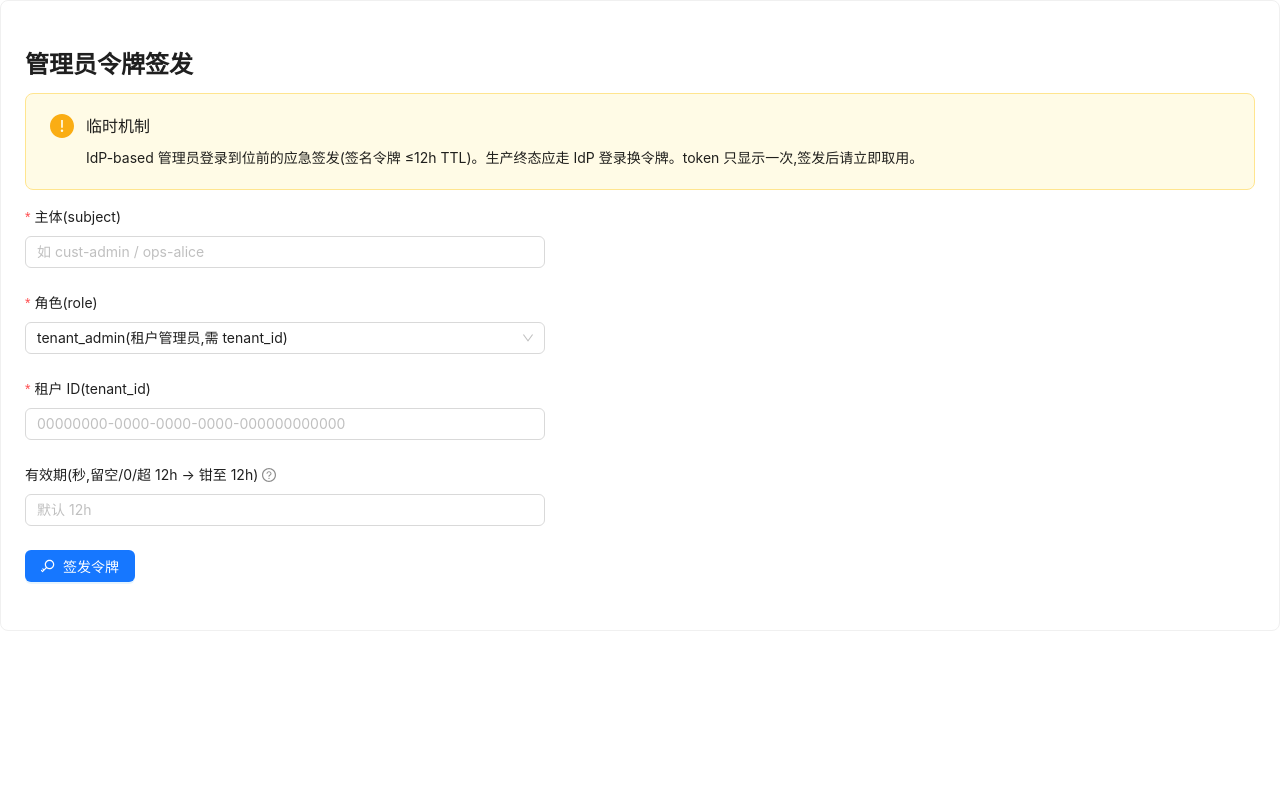
Test: AdminTokens 页 › 403 subject 不在表:错误提示
In the field with placeholder "如 cust-admin / ops-alice": (285, 252) x1=25 y1=236 x2=545 y2=268, type "x"
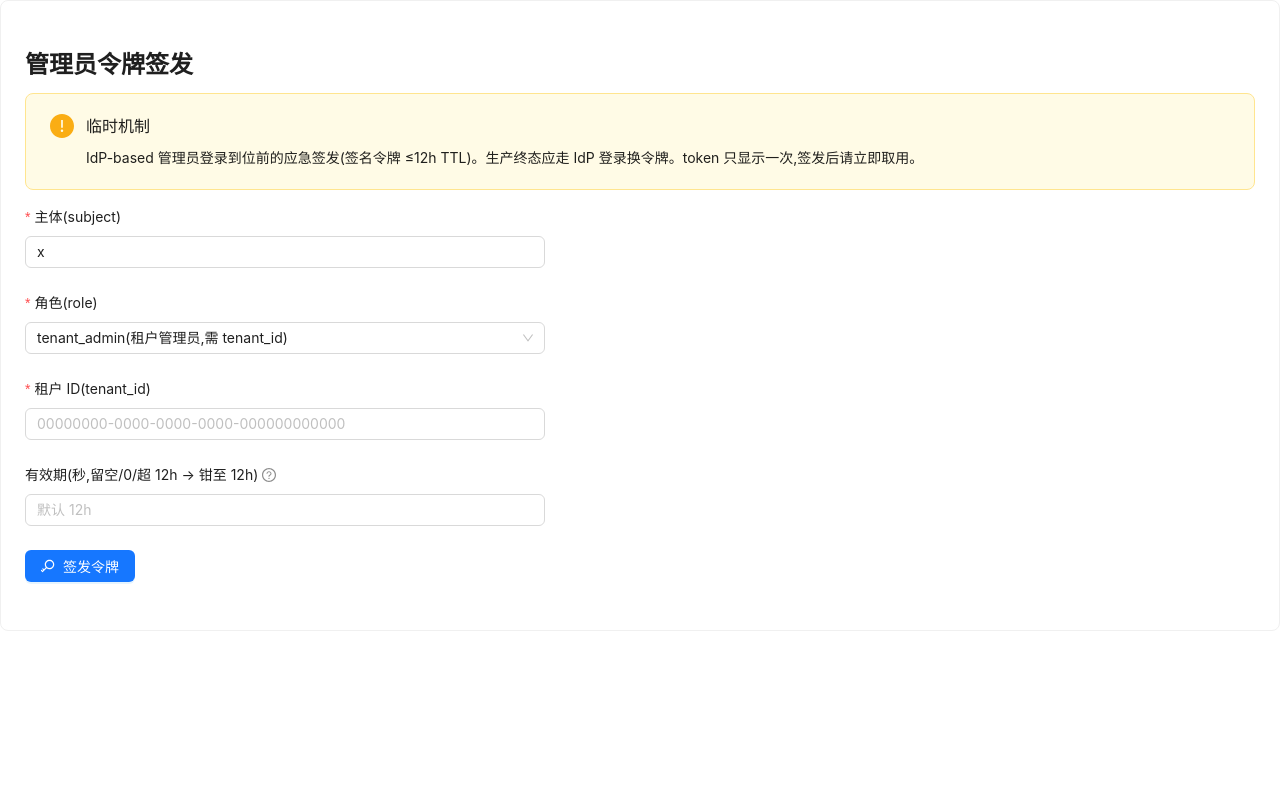
In the field with placeholder "00000000-0000-0000-0000-000000000000": (285, 424) x1=25 y1=408 x2=545 y2=440, type "t"
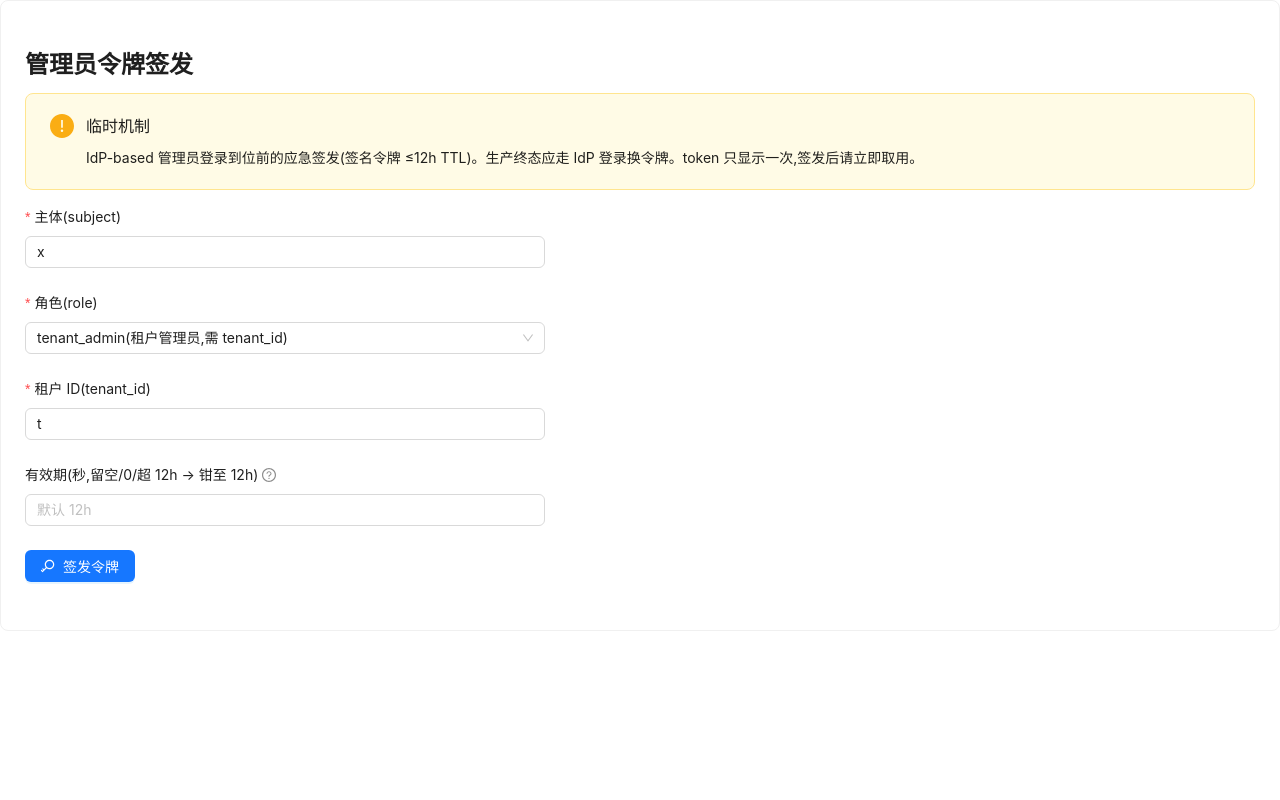
Click the button "签发令牌": (80, 566) x1=25 y1=550 x2=135 y2=582
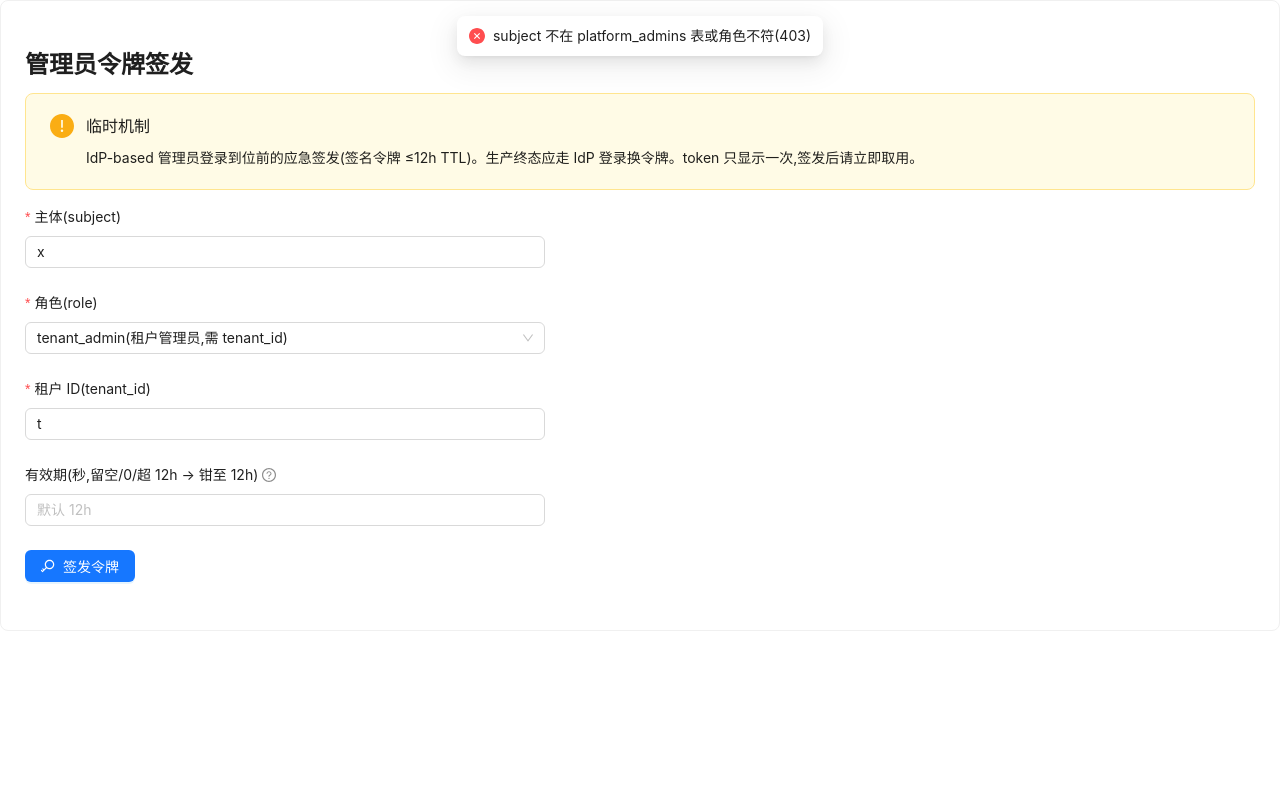
Expected: the text "subject 不在 platform_admins 表或角色不符(403)" is shown, x1=493 y1=25 x2=811 y2=47
